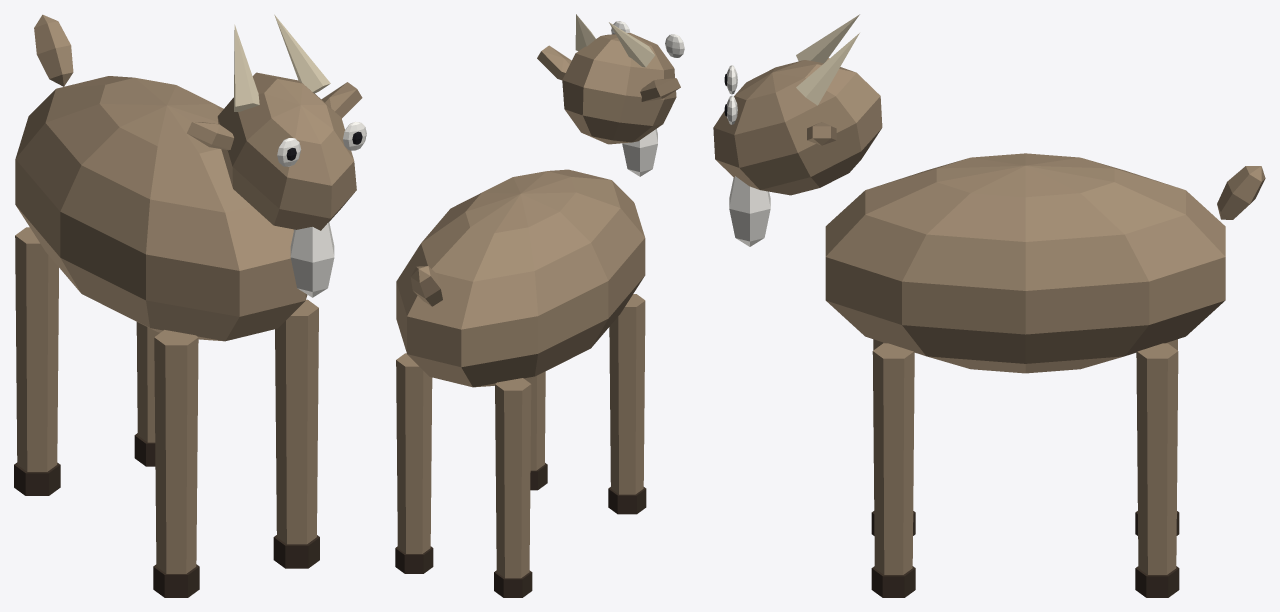
The model's file is farm_goat.glb.
3 renders of one model, left to right at view 1: azimuth 30°, elevation 25°; view 2: azimuth 150°, elevation 25°; view 3: azimuth 270°, elevation 25°, orthographic. The views are drawn at different scales.
Parts seen in each view (by area): view 1: body_goat_coat, legs_goat_coat, head_goat_coat, legs_goat_hoof, head_goat_horn (×2), head_white, face_white; view 2: body_goat_coat, legs_goat_coat, head_goat_coat, legs_goat_hoof, head_goat_horn (×2), head_white, face_white; view 3: body_goat_coat, legs_goat_coat, head_goat_coat, legs_goat_hoof, head_goat_horn (×2), head_white.
Boxes of the visible parts, box(x1,y1,x2,y2) form: body_goat_coat: box(15, 14, 307, 341); legs_goat_coat: box(15, 227, 318, 573); head_goat_coat: box(187, 72, 362, 230); legs_goat_hoof: box(14, 433, 319, 597); head_goat_horn (×2): box(234, 14, 330, 111); head_white: box(290, 222, 334, 297); face_white: box(277, 122, 366, 166); body_goat_coat: box(396, 169, 645, 387); legs_goat_coat: box(396, 294, 645, 578); head_goat_coat: box(537, 33, 680, 144); legs_goat_hoof: box(395, 463, 646, 597); head_goat_horn (×2): box(575, 14, 654, 67); head_white: box(622, 128, 657, 176); face_white: box(611, 21, 684, 57); body_goat_coat: box(825, 153, 1265, 373); legs_goat_coat: box(872, 339, 1178, 574); head_goat_coat: box(713, 58, 882, 195); legs_goat_hoof: box(871, 511, 1179, 597); head_goat_horn (×2): box(796, 14, 859, 105); head_white: box(729, 176, 770, 246).
Bounding box in the file's own units: 0.39 × 0.9925 × 0.9217.
